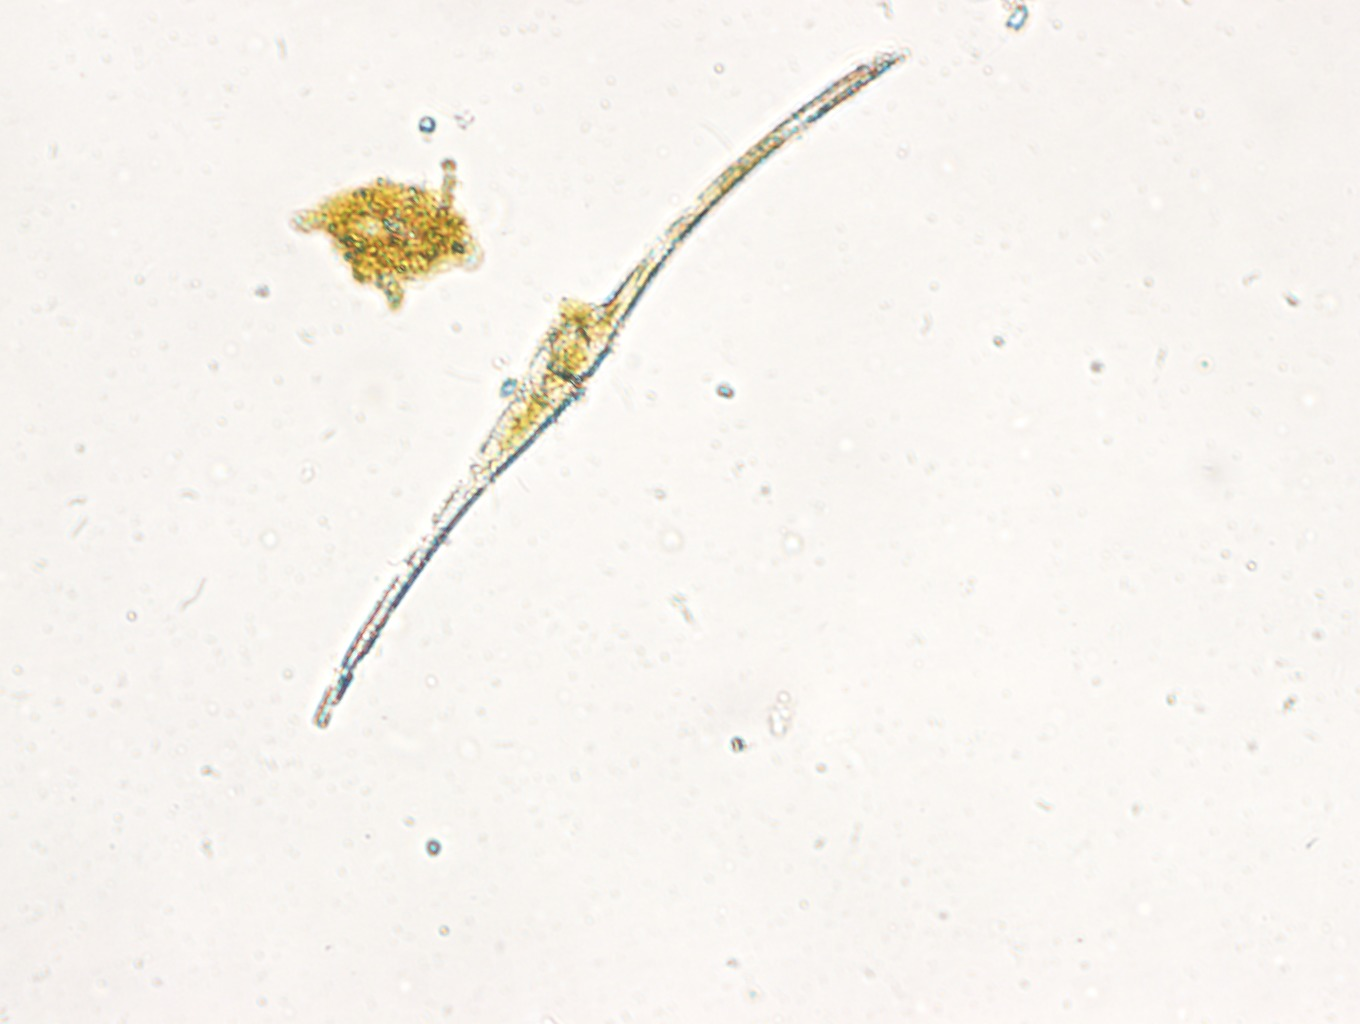ceratium fusus: (301, 46, 911, 739)
